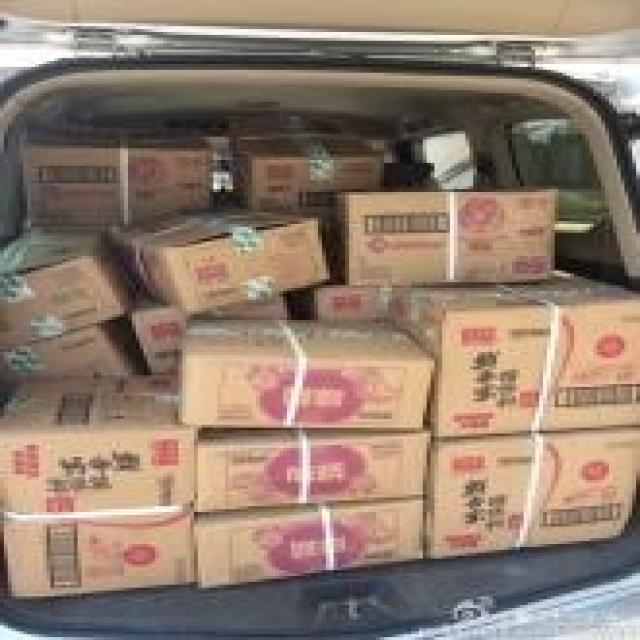box: (3, 373, 196, 596), (391, 264, 636, 438), (175, 319, 436, 428), (431, 425, 636, 560), (117, 201, 333, 317), (328, 189, 557, 287), (199, 425, 439, 513), (194, 499, 431, 588), (18, 125, 213, 231), (0, 231, 137, 355), (231, 112, 382, 218), (1, 313, 151, 418), (122, 291, 287, 377), (299, 281, 391, 320)
